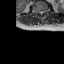CCS_normal: (40, 9, 42, 17)
LFS_normal: (44, 8, 46, 14)
LLS_normal: (42, 9, 44, 15)
RFS_normal: (36, 8, 38, 15)
RLS_stenosis: (38, 9, 40, 15)
